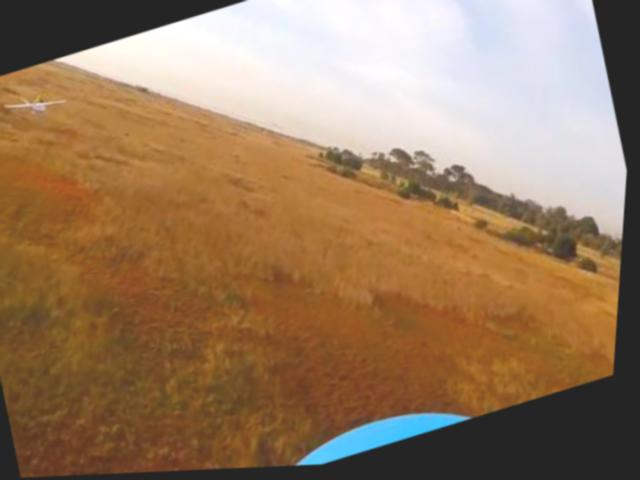uav: (0, 80, 74, 125)
